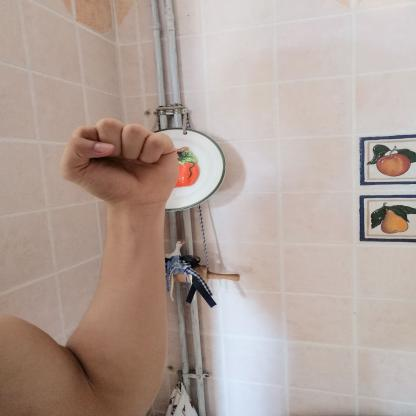SAD: (47, 111, 197, 217)
